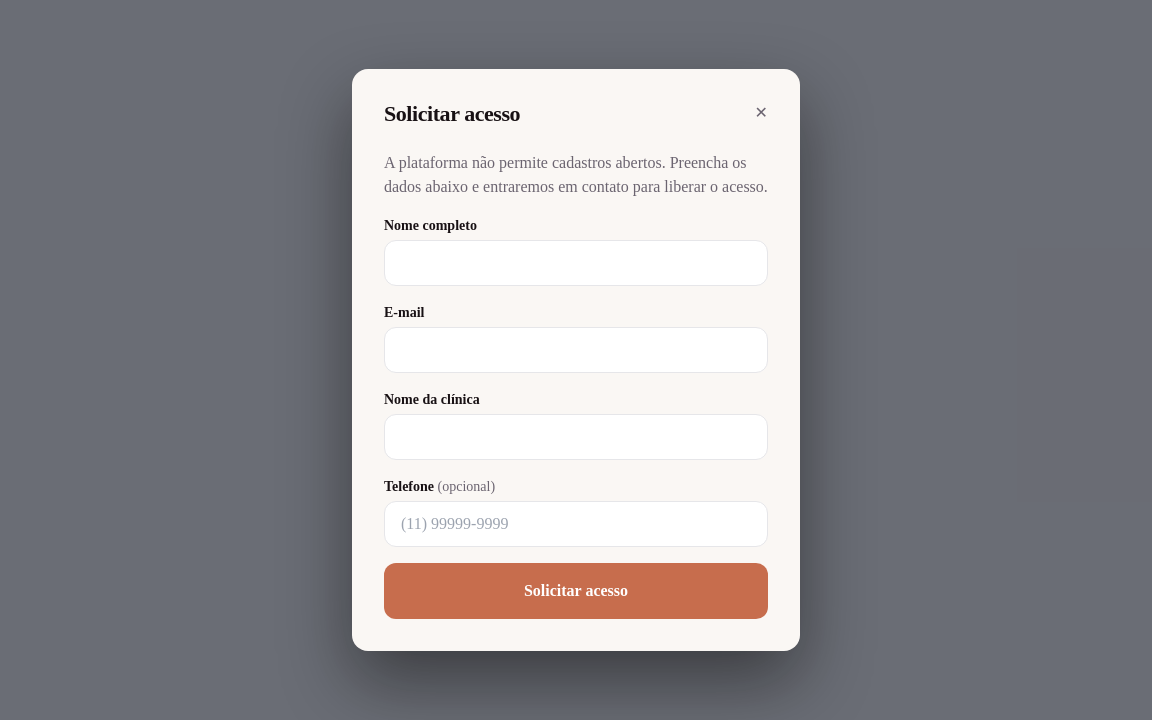
it: AccessRequestModal (integration) › submits the form and shows a success message
Type "Ana Costa" into the field labelled "Nome completo" at coordinates (576, 263), box [384,240,768,286]
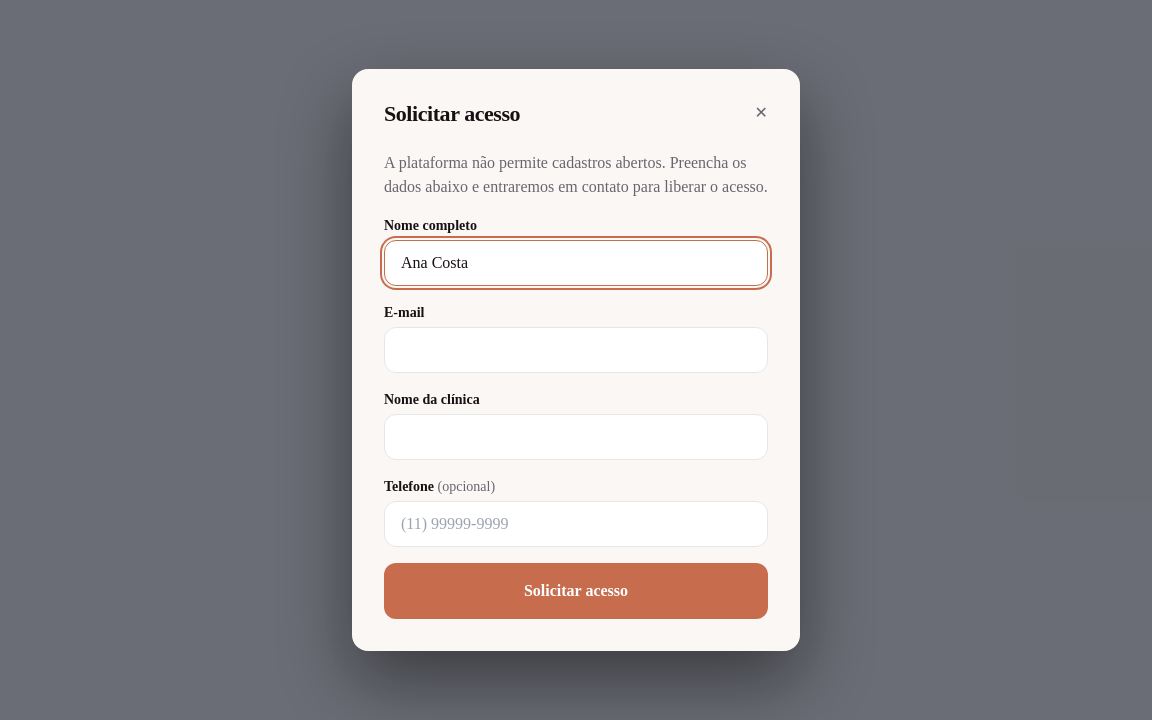
Type "ana@clinica.com" into the field labelled "E-mail" at coordinates (576, 350), box [384,327,768,373]
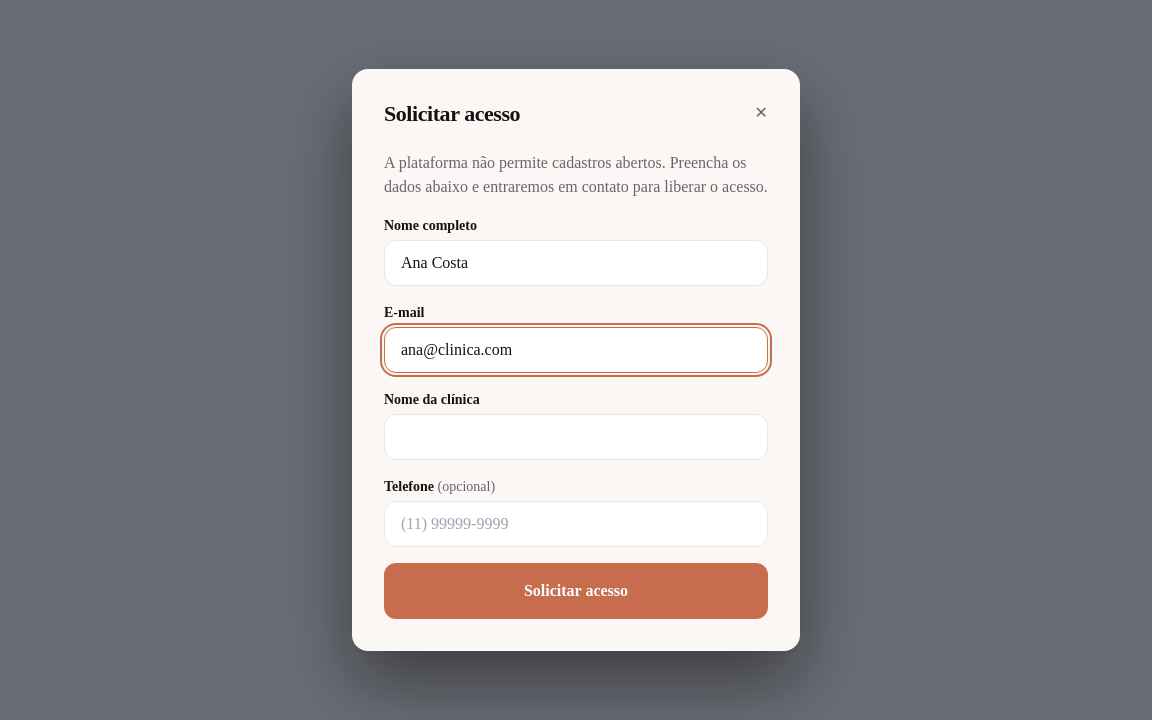
Type "Clínica do Vale" into the field labelled "Nome da clínica" at coordinates (576, 437), box [384,414,768,460]
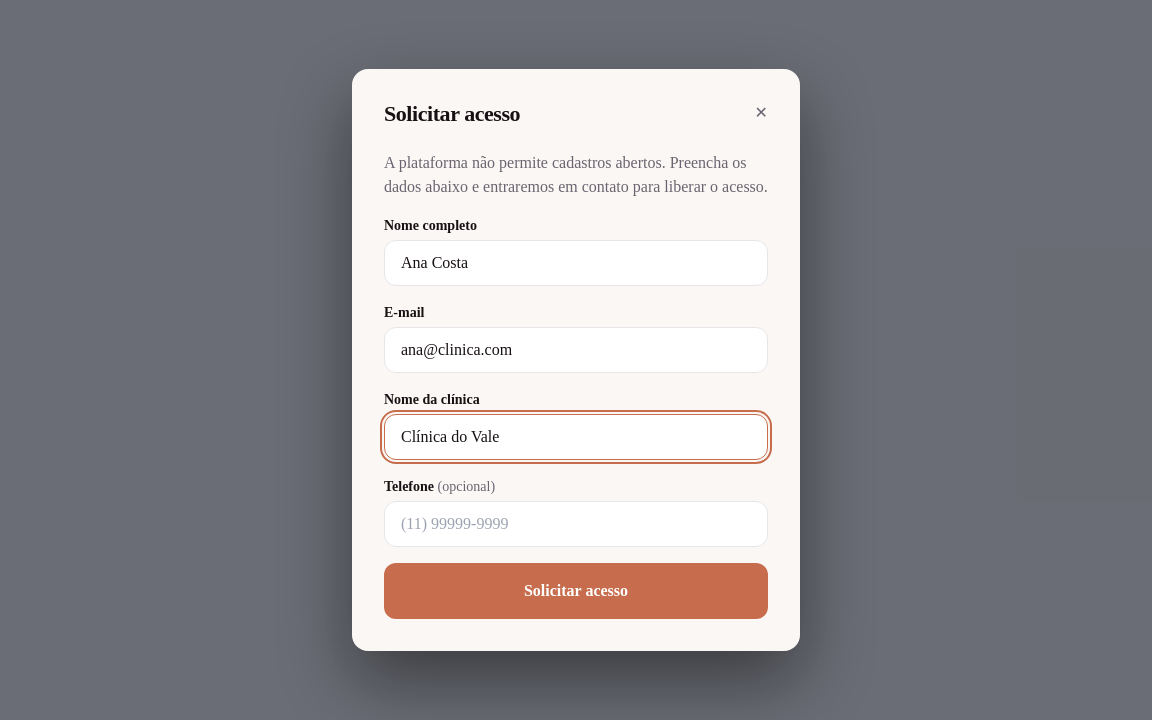
Click the button "Solicitar acesso" at coordinates (576, 591), box [384,563,768,619]
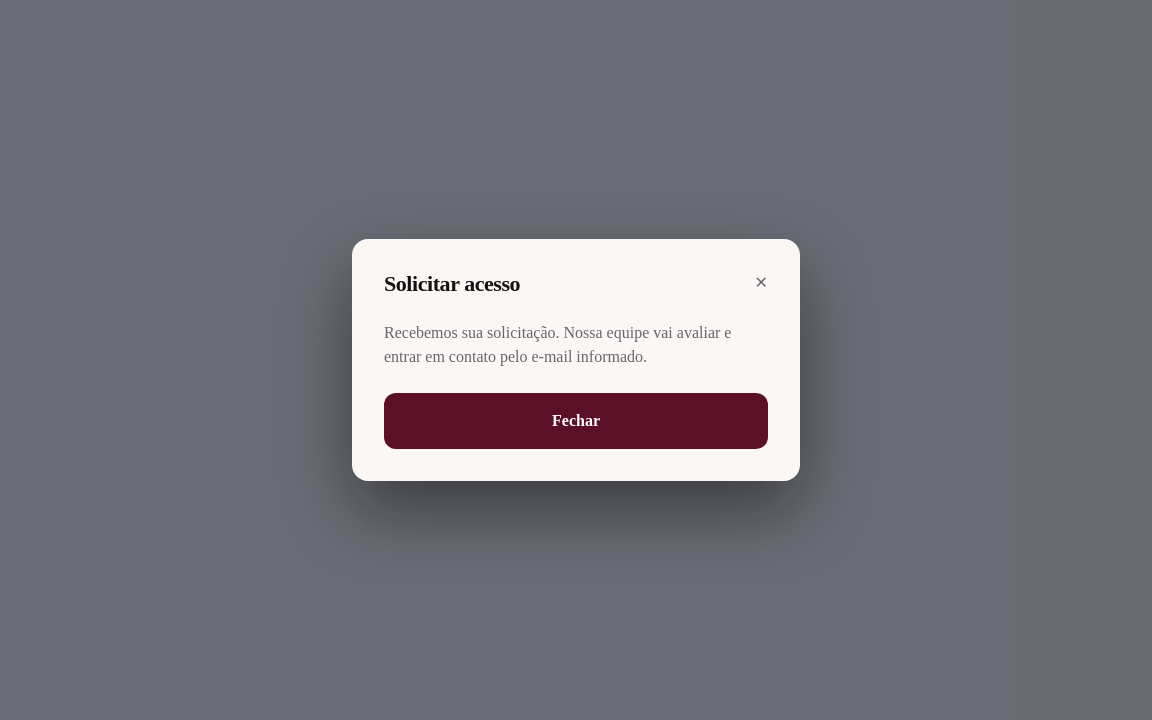
Expected: the element with test id "access-request-success" is shown, [384,321,768,449]
